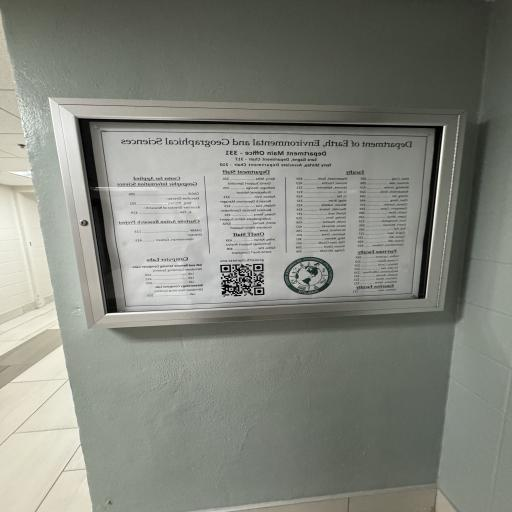poster board: (76, 104, 472, 334)
